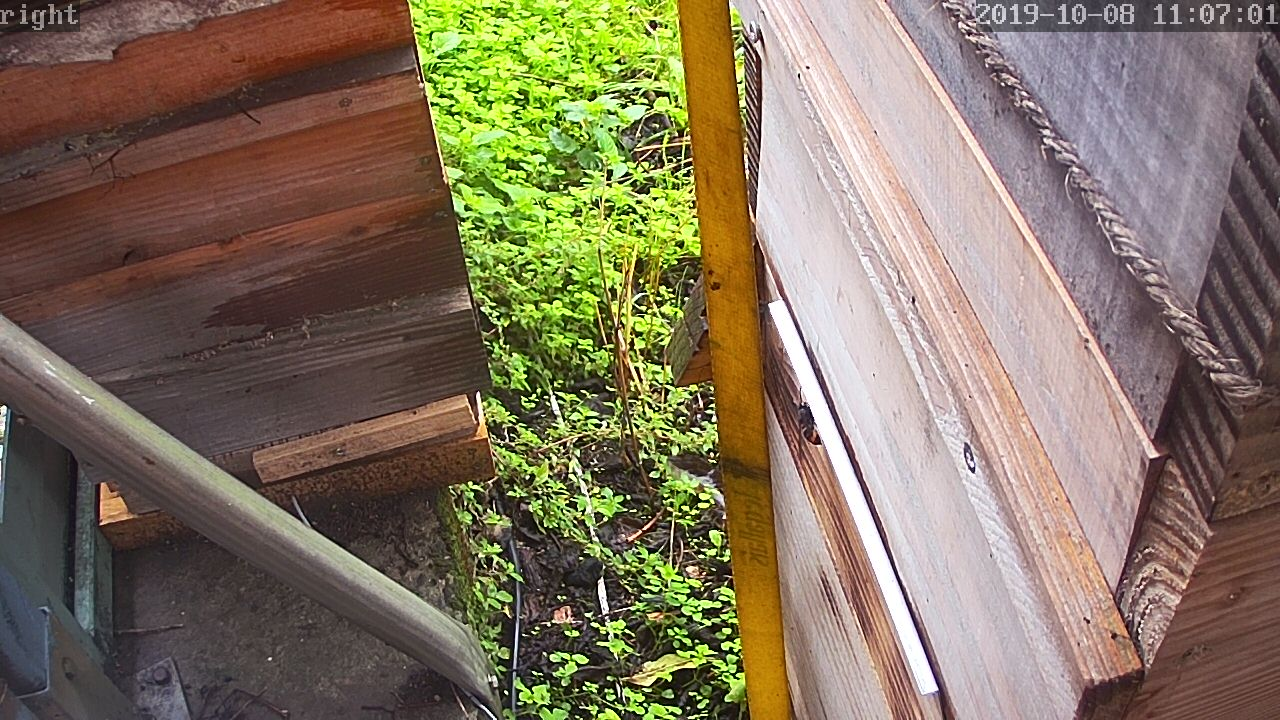hornet: (791, 397, 831, 450)
